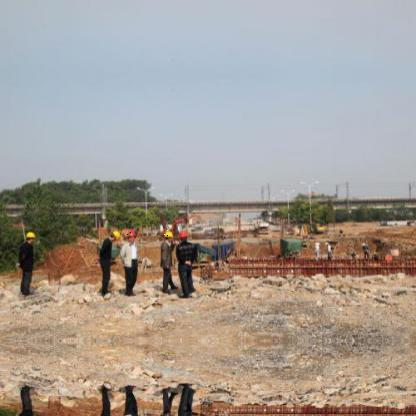safetyhelmet: (124, 230, 137, 238), (179, 230, 188, 240), (164, 231, 173, 238), (26, 231, 35, 238), (113, 230, 119, 240)
